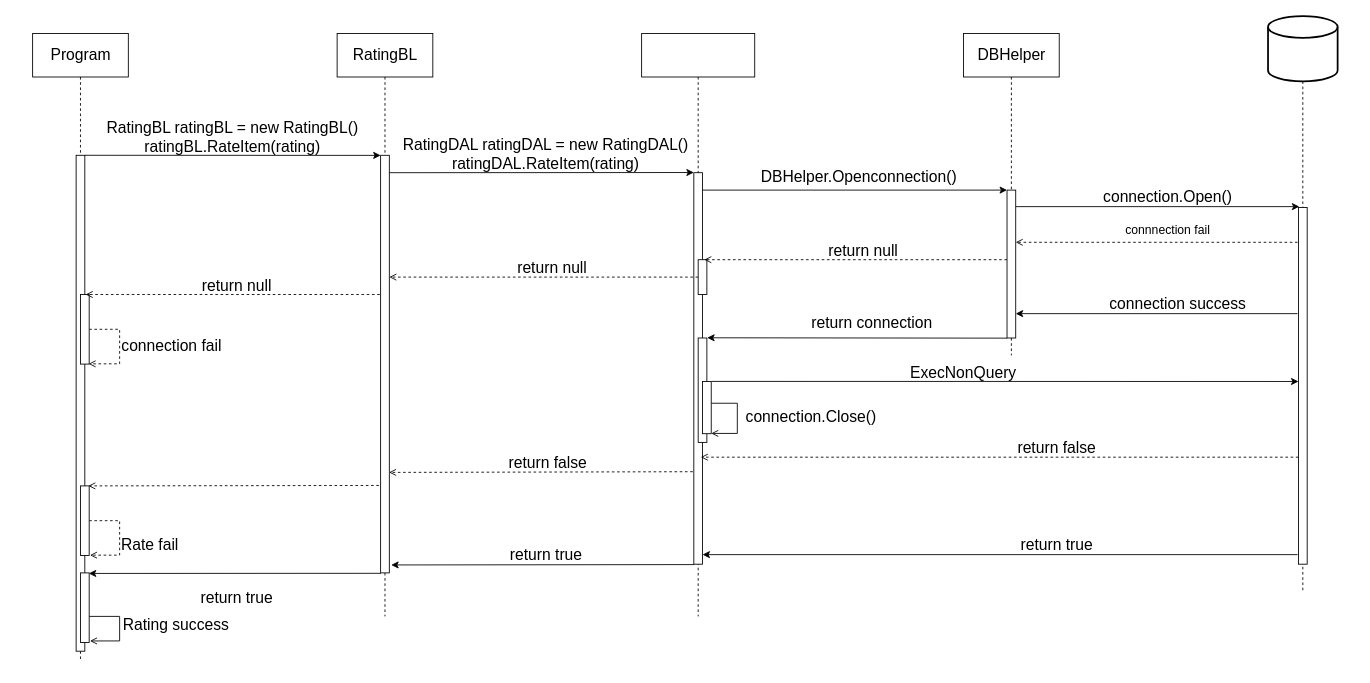
The diagram is 1370 pixels wide and 683 high, and some of its shapes have lost their labels. Here are the shapes that lost their labels. From the top down, the centre of each, then its label:
At point 698,55: "RatingDAL".
At point 1302,48: "Database".
